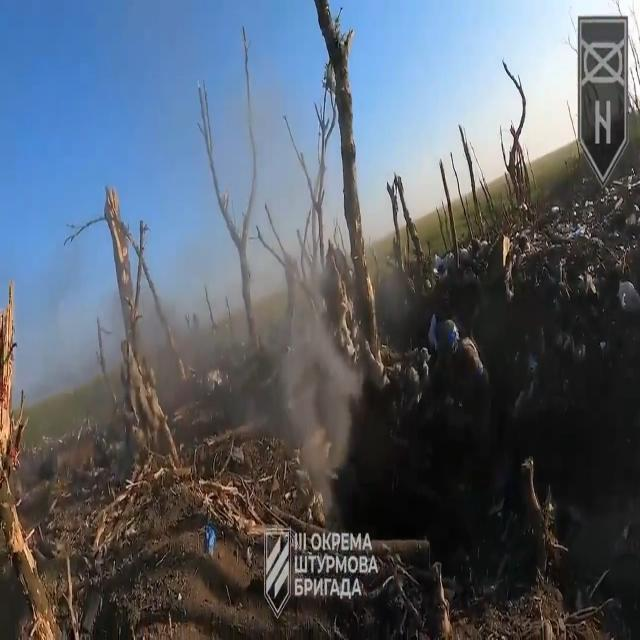MIL_Pax: (331, 0, 618, 239), (439, 320, 490, 434)
